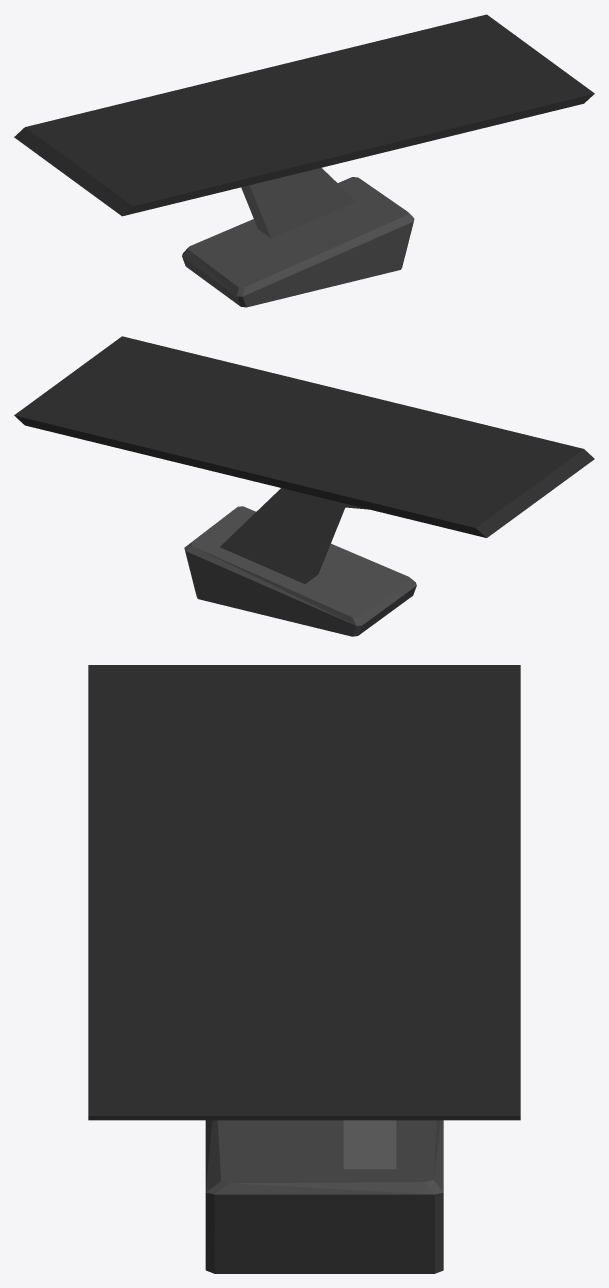
The model's file is table_C.FBX.
3 views of the same model, one above another, from view 1: azimuth 30°, elevation 25°; view 2: azimuth 150°, elevation 25°; view 3: azimuth 270°, elevation 25° (orthographic). The views are drawn at different scales.
Visible parts, largest first — view 1: table_C; view 2: table_C; view 3: table_C.
Part boxes in pixels (x1=…): table_C: x1=14, y1=14, x2=594, y2=307; table_C: x1=14, y1=336, x2=594, y2=636; table_C: x1=88, y1=665, x2=520, y2=1273.
Size of the model in its own units: 137 by 43.51 by 54.11.
